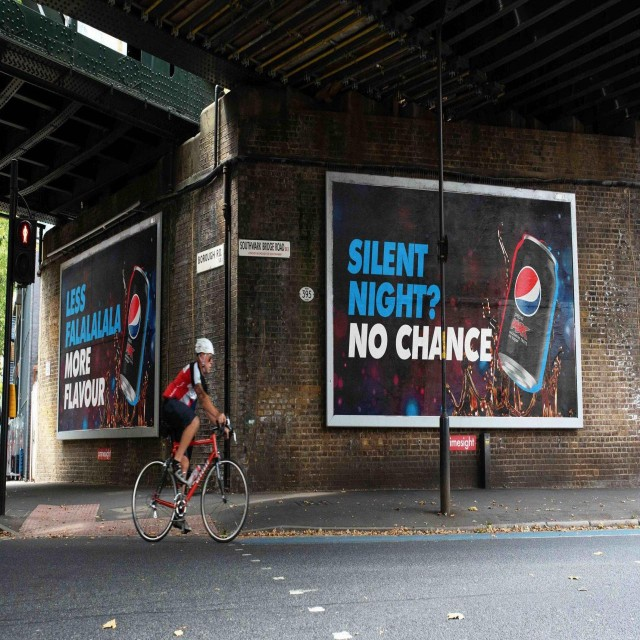pepsi: (515, 262, 543, 319), (126, 291, 145, 342)
